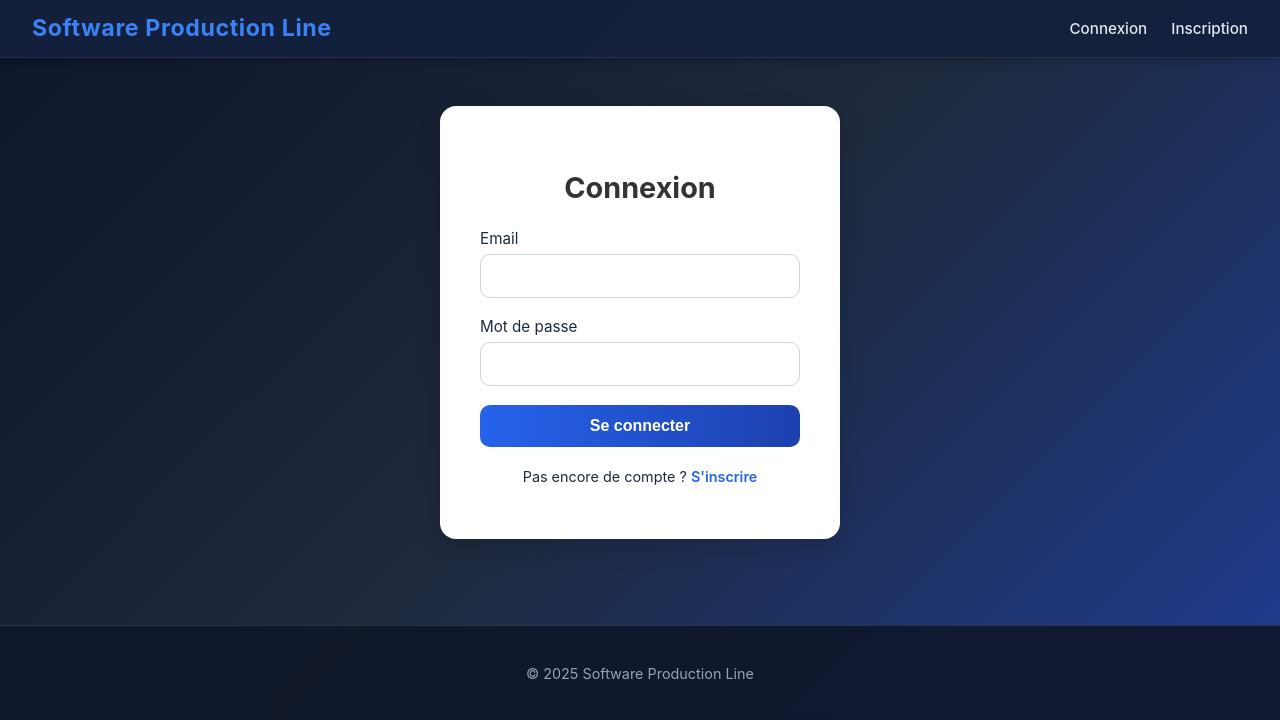
Test: Authentication › affiche un message d'erreur quand les identifiants sont invalides
The width and height of the screenshot is (1280, 720).
Type "bad@example.com" into the field labelled "Email" at (640, 276), box [480, 254, 800, 298]
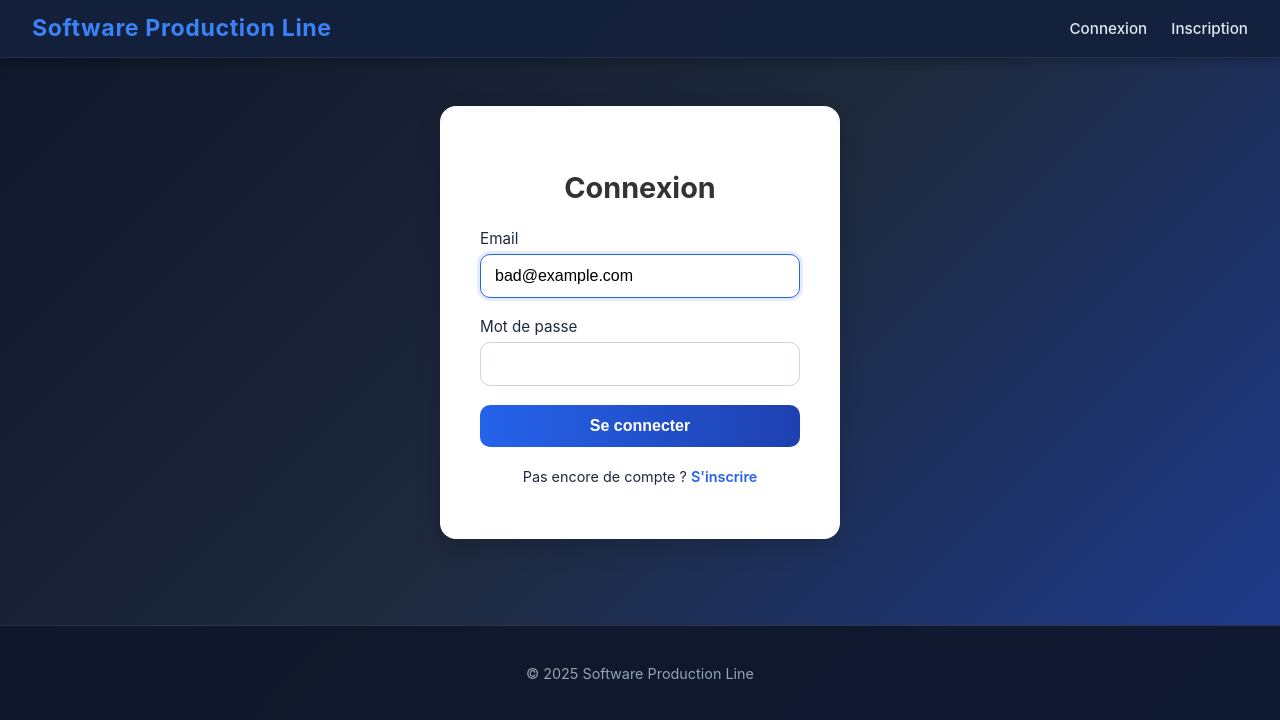
Type "wrong-password" into the password field labelled "Mot de passe" at (640, 364), box [480, 342, 800, 386]
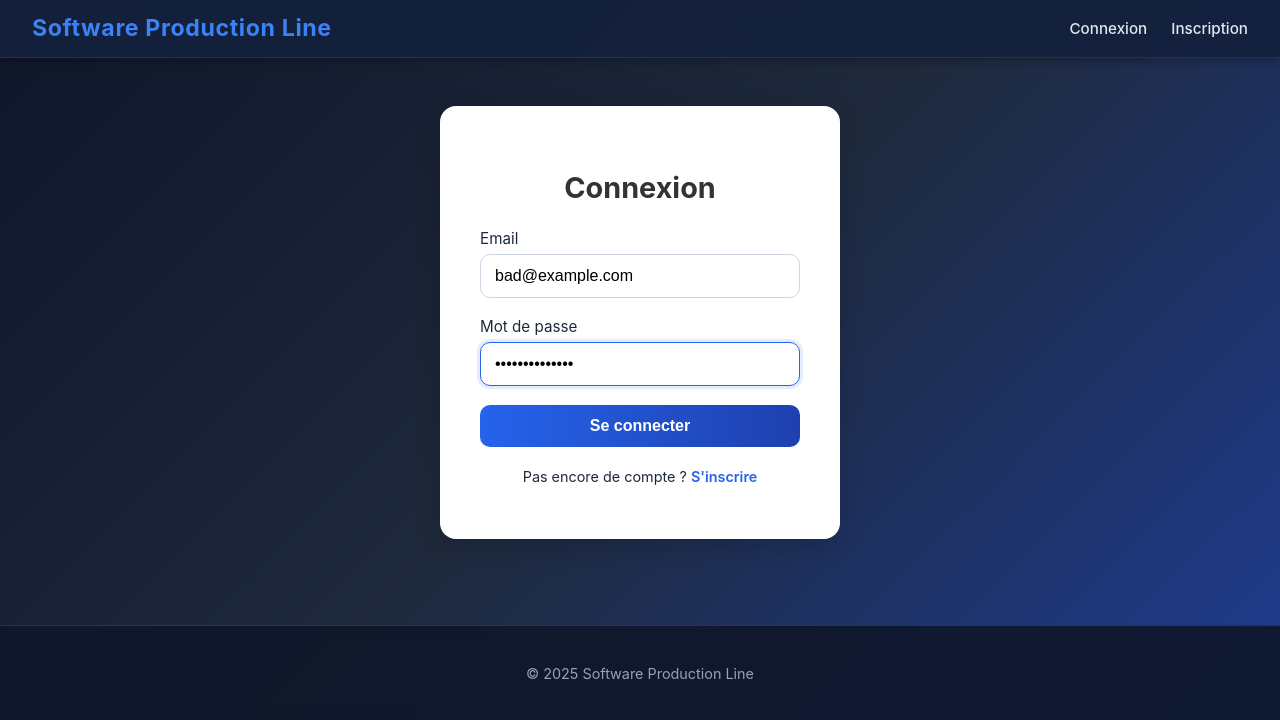
Click the button "Se connecter" at (640, 426), box [480, 405, 800, 447]
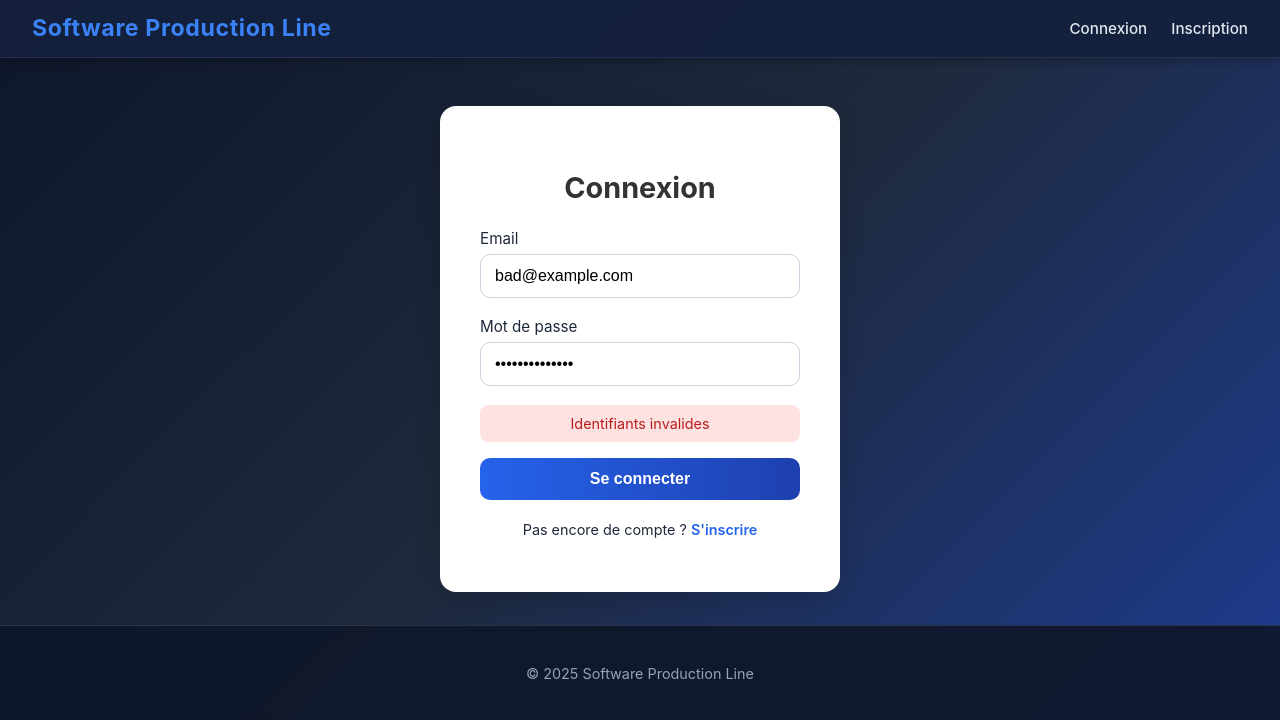
expect the text with class "auth-error" reads "Identifiants invalides": met, box [570, 415, 709, 432]
